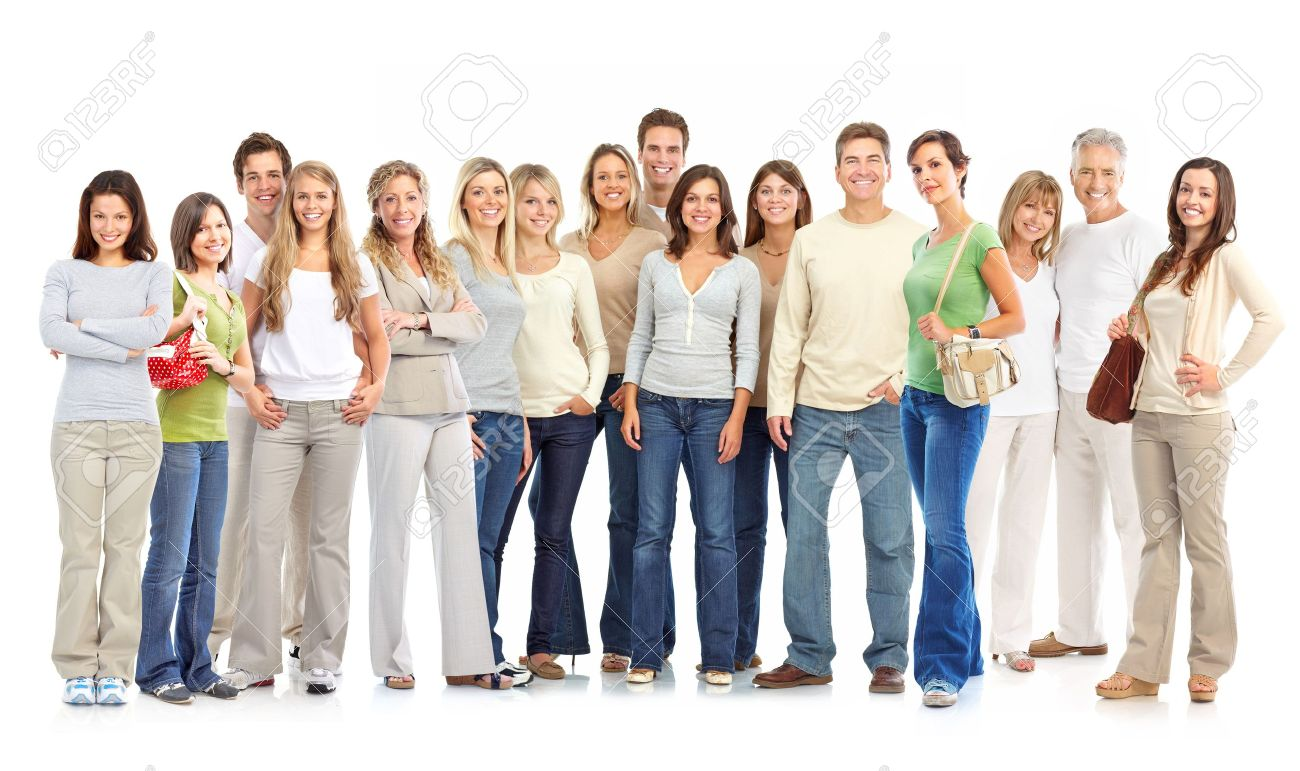person: (899, 115, 1112, 711), (571, 104, 747, 649), (1084, 131, 1247, 715), (229, 103, 387, 702), (743, 135, 909, 692), (26, 104, 154, 711), (360, 150, 500, 687), (496, 141, 589, 685), (154, 174, 222, 733)
